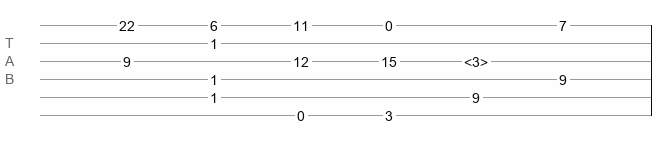0: (297, 108, 305, 118), (385, 18, 393, 28)
1: (210, 36, 218, 46), (210, 90, 218, 100), (210, 72, 218, 82)
11: (293, 18, 309, 28)
12: (293, 54, 309, 64)
15: (381, 54, 397, 64)
22: (119, 18, 135, 28)
3: (385, 108, 393, 118)
6: (210, 18, 218, 28)
7: (559, 18, 567, 28)
9: (123, 54, 131, 64), (472, 90, 480, 100), (559, 72, 567, 82)
harmonic: (464, 54, 488, 64)
